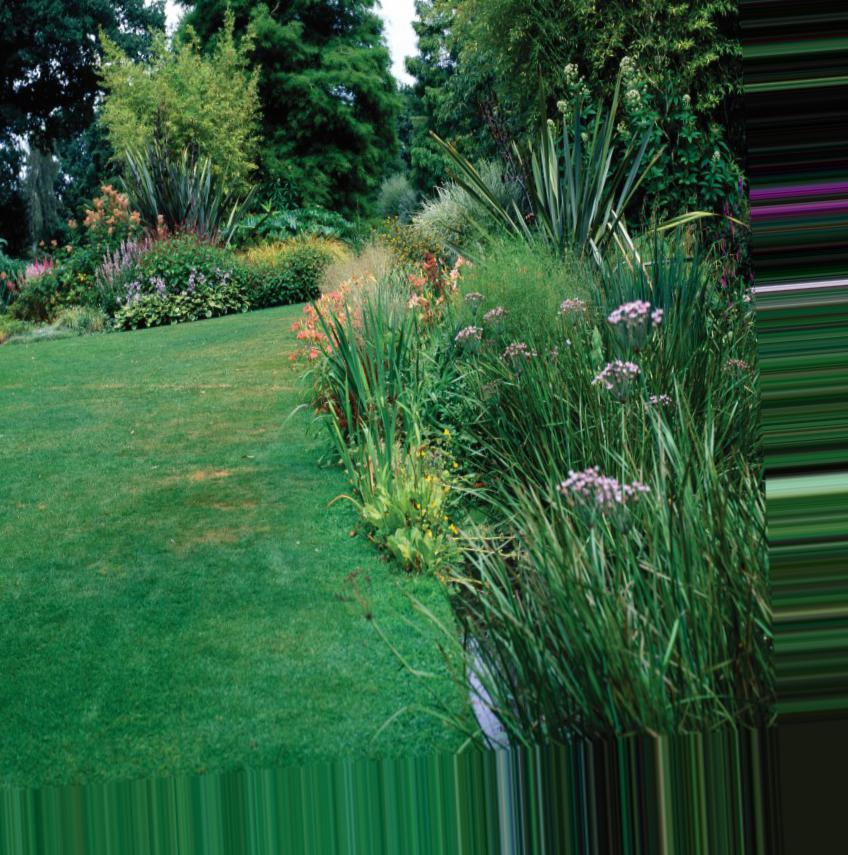patch: (193, 380, 237, 398), (333, 266, 380, 282), (196, 470, 229, 483)
